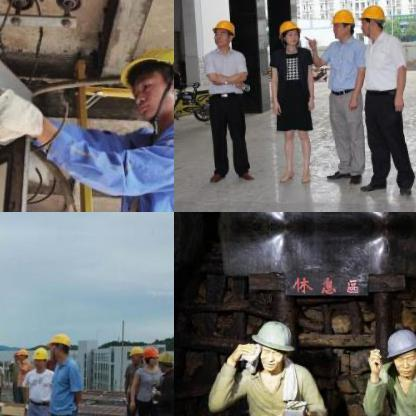Helmet: (115, 38, 173, 124), (250, 316, 294, 367), (381, 323, 415, 377), (359, 0, 387, 36), (46, 327, 72, 361), (330, 5, 354, 38), (276, 16, 301, 46), (211, 16, 235, 46), (155, 349, 173, 369), (30, 346, 46, 368), (142, 343, 156, 367), (126, 344, 140, 364), (16, 346, 26, 360)
